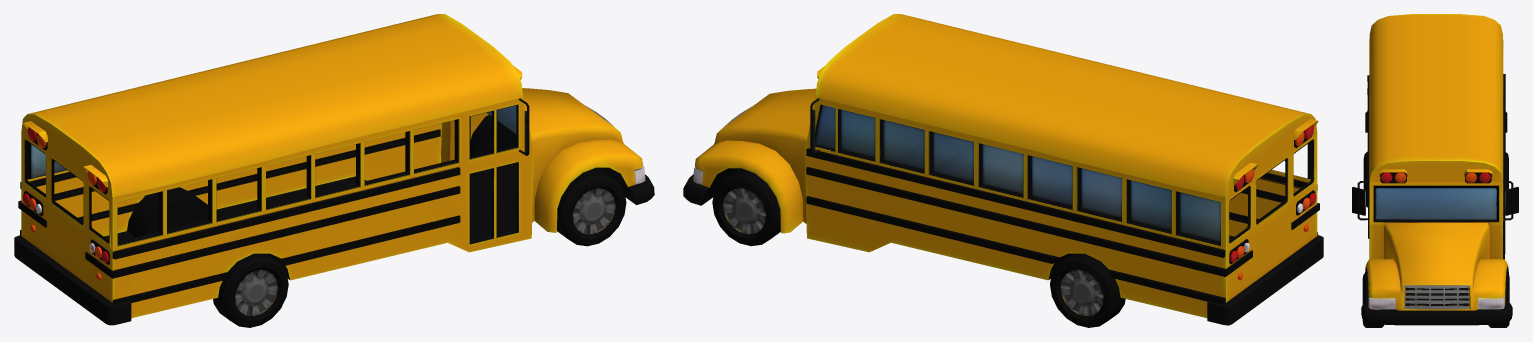
Rendered from SchoolBus.fbx.
3 views of the same model, side by side, from view 1: azimuth 30°, elevation 25°; view 2: azimuth 150°, elevation 25°; view 3: azimuth 270°, elevation 25° (orthographic). The views are drawn at different scales.
Visible parts, largest first — view 1: schoolbus; view 2: schoolbus; view 3: schoolbus.
Part boxes in pixels (left/top/right/bottom): schoolbus: left=14, top=14, right=654, bottom=327; schoolbus: left=683, top=14, right=1323, bottom=327; schoolbus: left=1352, top=14, right=1518, bottom=327.
Size of the model in its own units: 6826 by 2257 by 2435.
